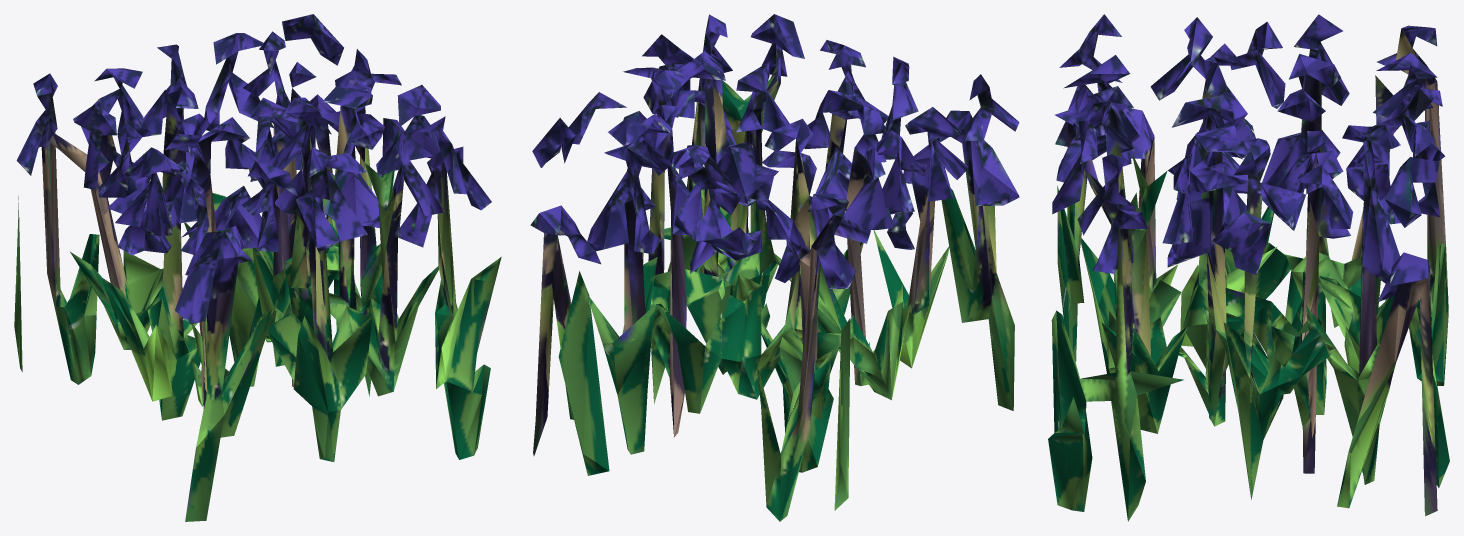
Rendered from bluebell-patch.glb.
The picture shows the model from 3 angles, left to right: view 1: azimuth 30°, elevation 25°; view 2: azimuth 150°, elevation 25°; view 3: azimuth 270°, elevation 25°; orthographic projection. The views are drawn at different scales.
Visible parts, largest first — view 1: geometry_0; view 2: geometry_0; view 3: geometry_0.
Boxes of the visible parts, left/top/right/bottom form: geometry_0: left=14, top=14, right=501, bottom=521; geometry_0: left=530, top=14, right=1019, bottom=521; geometry_0: left=1048, top=14, right=1449, bottom=521.
Size of the model in its own units: 1 by 0.9884 by 0.9958.
1 material, 1 textured.
